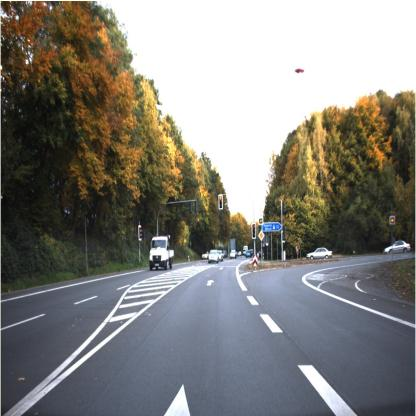priority road: (257, 229, 265, 241)
